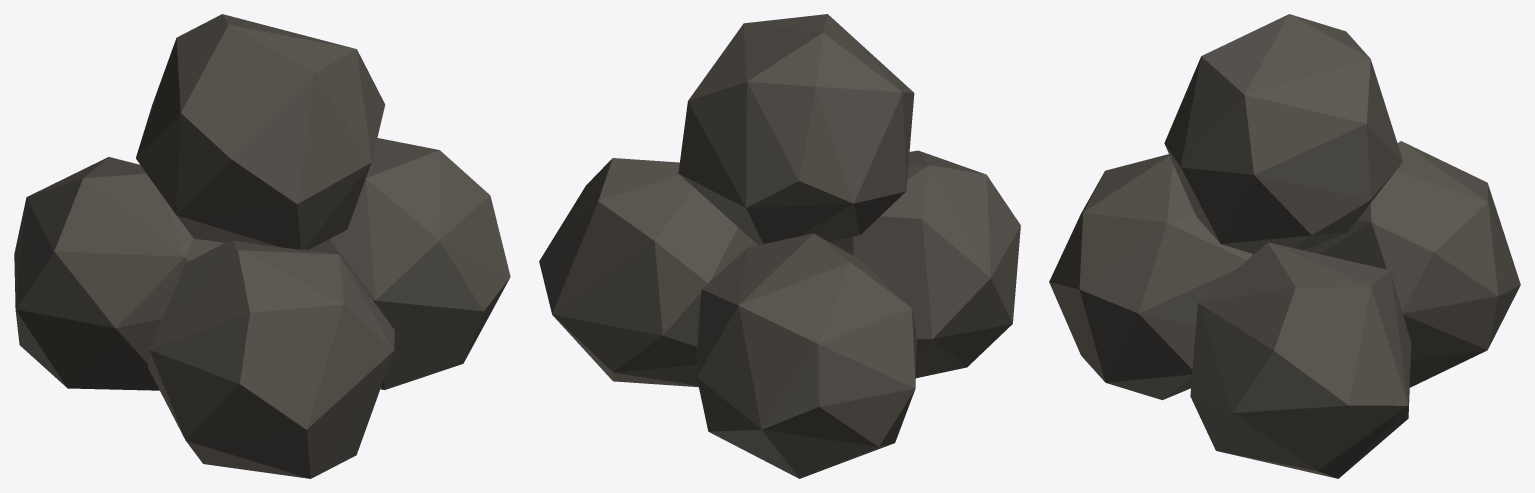
Rendered from Cannonball_2.fbx.
3 renders of one model, left to right at view 1: azimuth 30°, elevation 25°; view 2: azimuth 150°, elevation 25°; view 3: azimuth 270°, elevation 25°, orthographic. The views are drawn at different scales.
Visible parts, largest first — view 1: Cannonball_2; view 2: Cannonball_2; view 3: Cannonball_2.
Boxes of the visible parts, x1,y1,x2,y2 form: Cannonball_2: (14, 14, 510, 478); Cannonball_2: (539, 14, 1020, 478); Cannonball_2: (1049, 14, 1520, 478).
Size of the model in its own units: 35.88 by 32.57 by 36.5.
